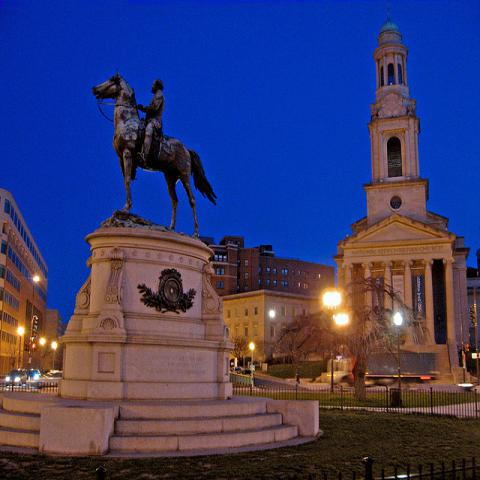car: (33, 371, 63, 389), (6, 370, 28, 386), (29, 370, 41, 380), (232, 367, 242, 374)
